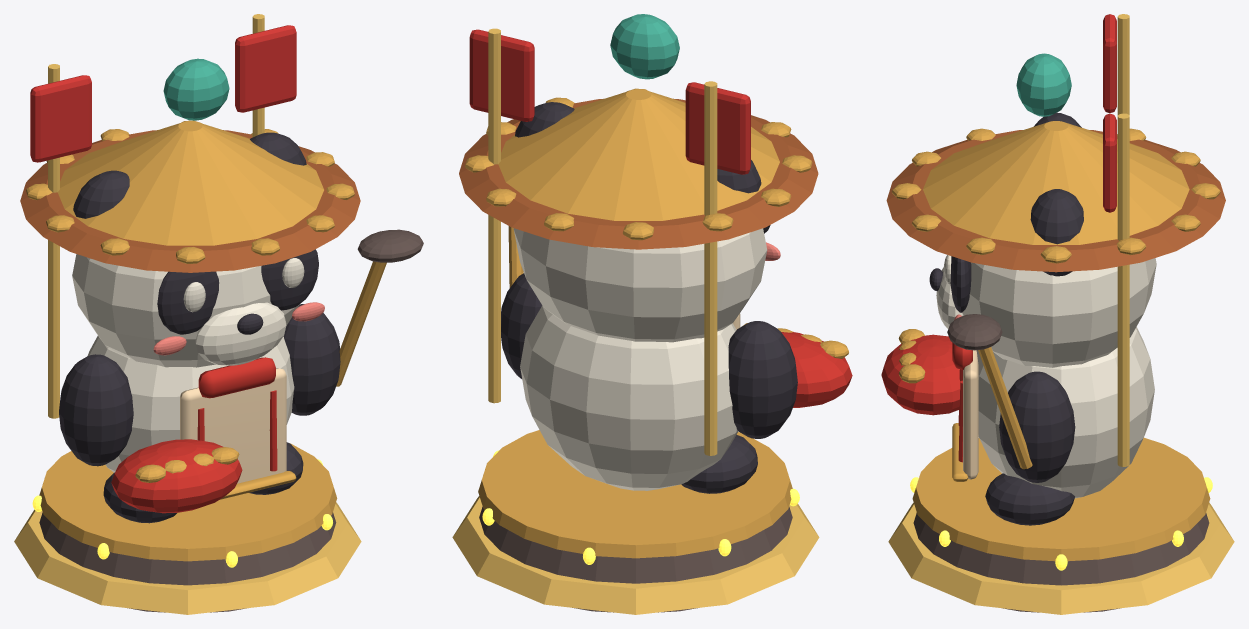
The model's file is 07-famous-restaurant.glb.
3 renders of one model, left to right at view 1: azimuth 30°, elevation 25°; view 2: azimuth 150°, elevation 25°; view 3: azimuth 270°, elevation 25°, orthographic. The views are drawn at different scales.
Parts seen in each view (by area): view 1: premium-panda batched gilded metal, premium-panda batched cream fur, premium-panda batched ink fur, restaurant banner pole, hat brim, restaurant sign, premium-panda batched lacquer red, premium-panda batched carved base, cream chef apron, chef crown jewel, premium-panda batched cheek blush, evolution rank stud; view 2: premium-panda batched gilded metal, premium-panda batched cream fur, restaurant banner pole, premium-panda batched ink fur, hat brim, restaurant sign, premium-panda batched carved base, chef crown jewel, premium-panda batched lacquer red, evolution rank stud; view 3: premium-panda batched gilded metal, premium-panda batched cream fur, restaurant banner pole, premium-panda batched ink fur, hat brim, premium-panda batched carved base, premium-panda batched lacquer red, chef crown jewel, restaurant sign, cream chef apron, evolution rank stud.
Boxes of the visible parts, left/top/right/bottom form: premium-panda batched gilded metal: left=26, top=120, right=386, bottom=561; premium-panda batched cream fur: left=72, top=254, right=304, bottom=472; premium-panda batched ink fur: left=59, top=132, right=340, bottom=523; restaurant banner pole: left=14, top=14, right=361, bottom=614; hat brim: left=20, top=130, right=360, bottom=272; restaurant sign: left=30, top=25, right=296, bottom=162; premium-panda batched lacquer red: left=111, top=357, right=277, bottom=513; premium-panda batched carved base: left=39, top=229, right=423, bottom=612; cream chef apron: left=180, top=368, right=286, bottom=483; chef crown jewel: left=163, top=58, right=229, bottom=120; premium-panda batched cheek blush: left=153, top=302, right=324, bottom=355; evolution rank stud: left=32, top=459, right=332, bottom=567; premium-panda batched gilded metal: left=465, top=88, right=848, bottom=558; premium-panda batched cream fur: left=513, top=228, right=767, bottom=490; restaurant banner pole: left=452, top=28, right=819, bottom=614; premium-panda batched ink fur: left=501, top=102, right=797, bottom=493; hat brim: left=459, top=98, right=818, bottom=249; restaurant sign: left=469, top=29, right=750, bottom=174; premium-panda batched carved base: left=479, top=506, right=792, bottom=612; chef crown jewel: left=610, top=14, right=679, bottom=79; premium-panda batched lacquer red: left=781, top=332, right=852, bottom=407; evolution rank stud: left=482, top=450, right=799, bottom=564; premium-panda batched gilded metal: left=892, top=121, right=1220, bottom=561; premium-panda batched cream fur: left=936, top=255, right=1156, bottom=498; restaurant banner pole: left=888, top=14, right=1234, bottom=614; premium-panda batched ink fur: left=929, top=112, right=1083, bottom=525; hat brim: left=886, top=130, right=1225, bottom=272; premium-panda batched carved base: left=913, top=314, right=1209, bottom=612; premium-panda batched lacquer red: left=881, top=334, right=972, bottom=462; chef crown jewel: left=1016, top=53, right=1071, bottom=116; restaurant sign: left=1103, top=14, right=1116, bottom=212; cream chef apron: left=963, top=350, right=978, bottom=479; evolution rank stud: left=910, top=477, right=1212, bottom=570.
Bounding box in the file's own units: 1.13 × 1.56 × 1.02.
